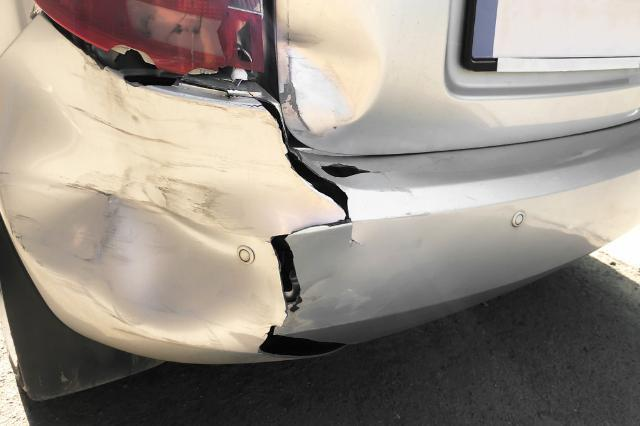crack: (259, 104, 362, 359), (318, 163, 369, 177)
dent: (28, 66, 346, 353), (275, 4, 384, 131)
lamp broken: (36, 0, 276, 104)
